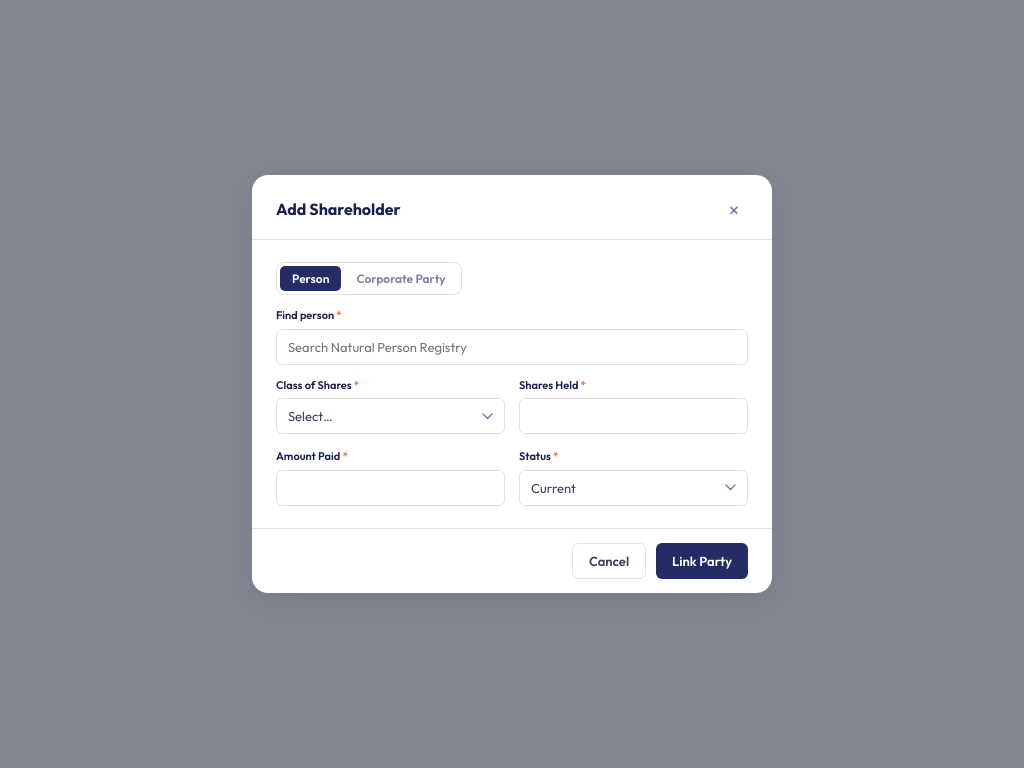
Test: LinkPartyModal › names one missing box in the singular
The image size is (1024, 768).
Type "john" into the field named "Search parties".
click(512, 347); type("john")  # box [276,329,748,365]
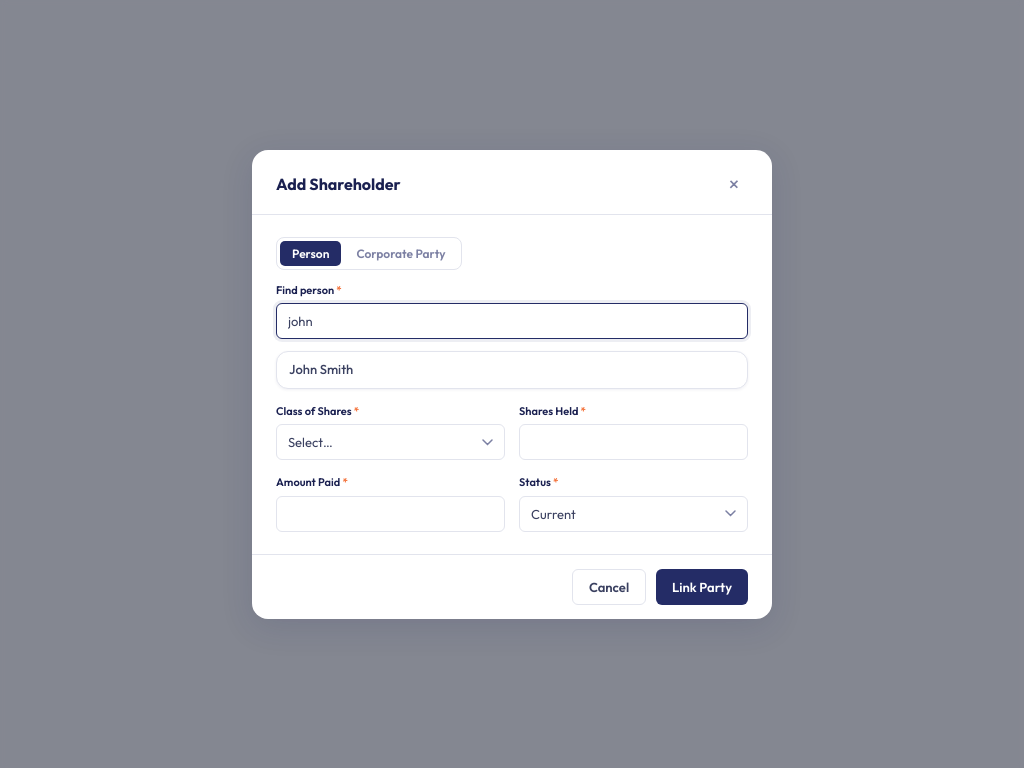
Click the text "John Smith".
click(321, 370)  # box [289,360,353,380]
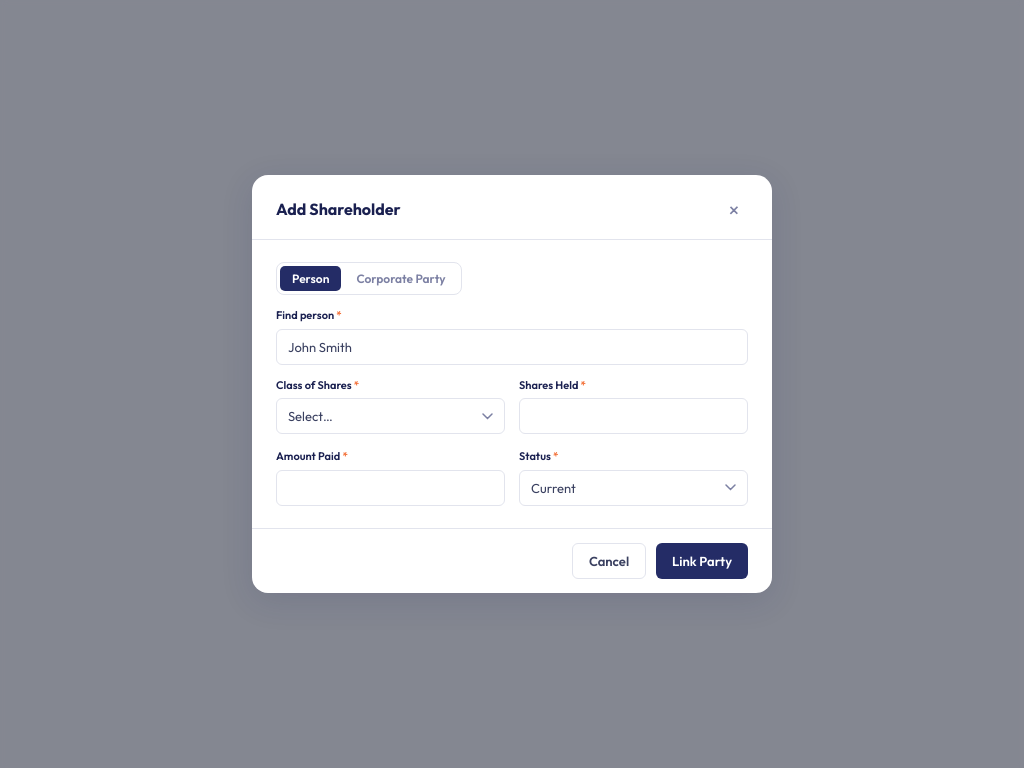
Select "Ordinary · HKD" in the dropdown labelled "Class of Shares *" at (390, 416), box [276,398,505,434]
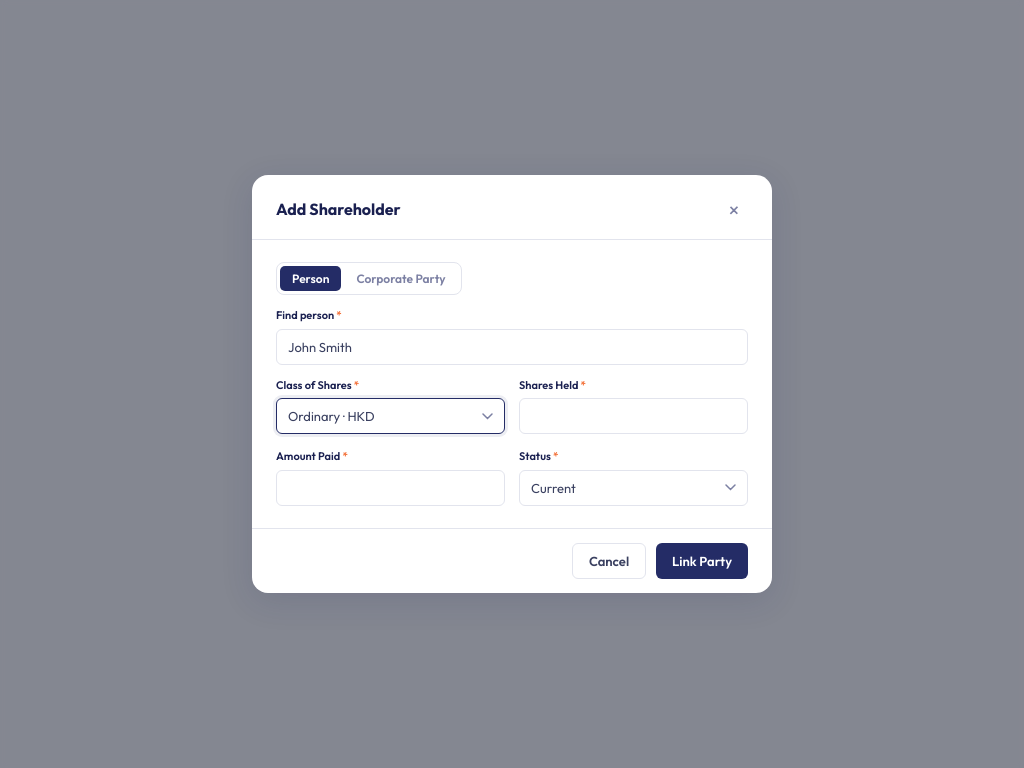
Type "100" into the number field labelled "Shares Held *".
click(634, 416); type("100")  # box [519,398,748,434]
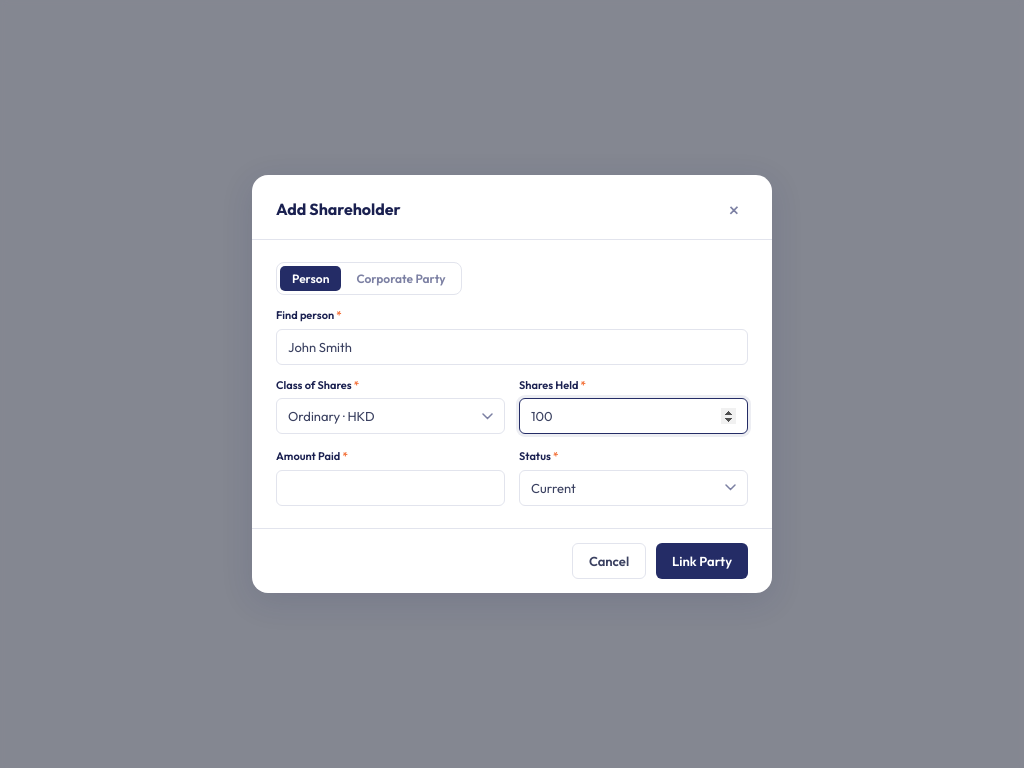
Click the button "Link Party".
click(702, 561)  # box [656,543,748,579]
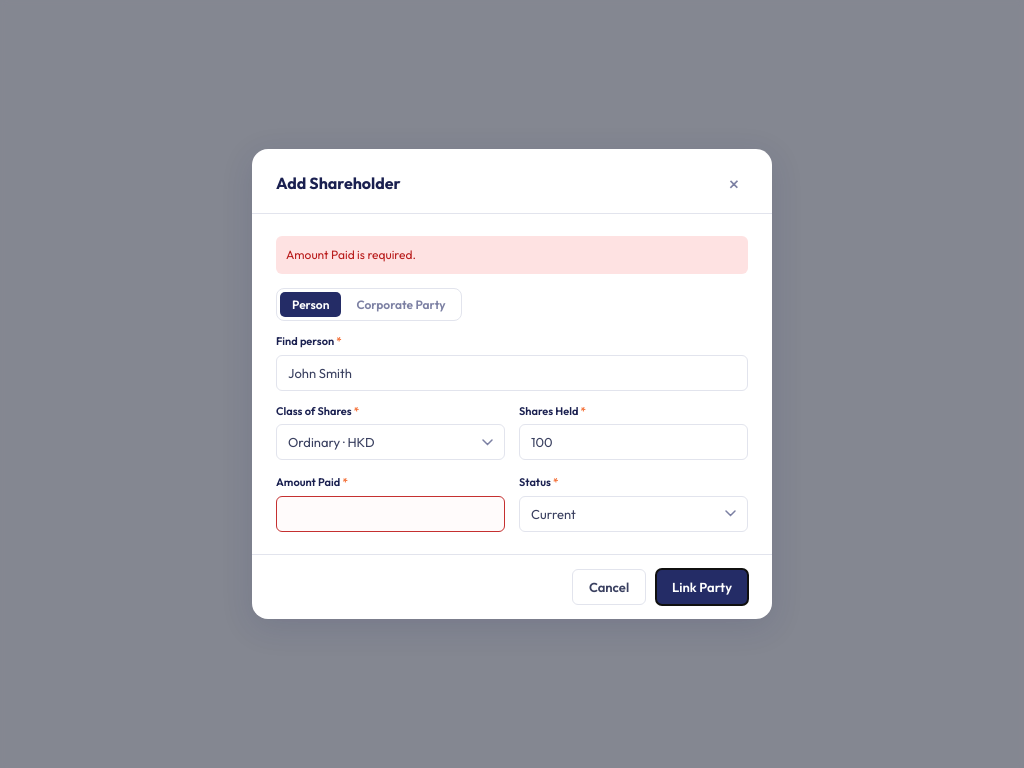
Check: the text "Amount Paid is required." is shown, box [276,236,748,274]
